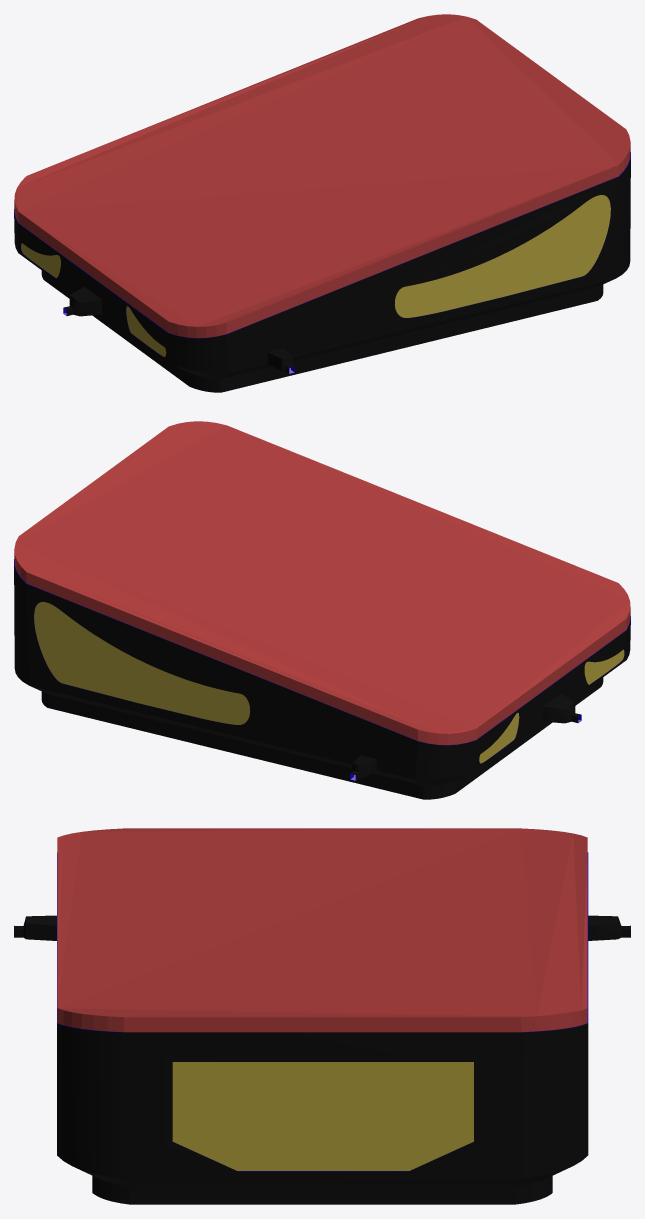
File: SS Ship Bay1.FBX
3 views of the same model, one above another, from view 1: azimuth 30°, elevation 25°; view 2: azimuth 150°, elevation 25°; view 3: azimuth 270°, elevation 25° (orthographic). The views are drawn at different scales.
Parts seen in each view (by area): view 1: Ceiling, Plane001, Bay Window LG, SM WIndo Ship BAy001, SM WIndo Ship BAy; view 2: Ceiling, Plane001, Bay Window LG001, SM WIndo Ship BAy, SM WIndo Ship BAy001; view 3: Ceiling, Plane001, Plane003.
Boxes of the visible parts, x1,y1,x2,y2 form: Ceiling: (14, 14, 630, 338); Plane001: (14, 152, 630, 392); Bay Window LG: (395, 195, 610, 317); SM WIndo Ship BAy001: (126, 306, 166, 356); SM WIndo Ship BAy: (21, 243, 60, 277); Ceiling: (14, 421, 630, 745); Plane001: (14, 559, 630, 799); Bay Window LG001: (34, 602, 249, 724); SM WIndo Ship BAy: (479, 713, 519, 763); SM WIndo Ship BAy001: (584, 649, 624, 684); Ceiling: (57, 828, 587, 1032); Plane001: (14, 852, 630, 1204); Plane003: (172, 1062, 473, 1170).
Size of the model in its own units: 366 by 110 by 304.
